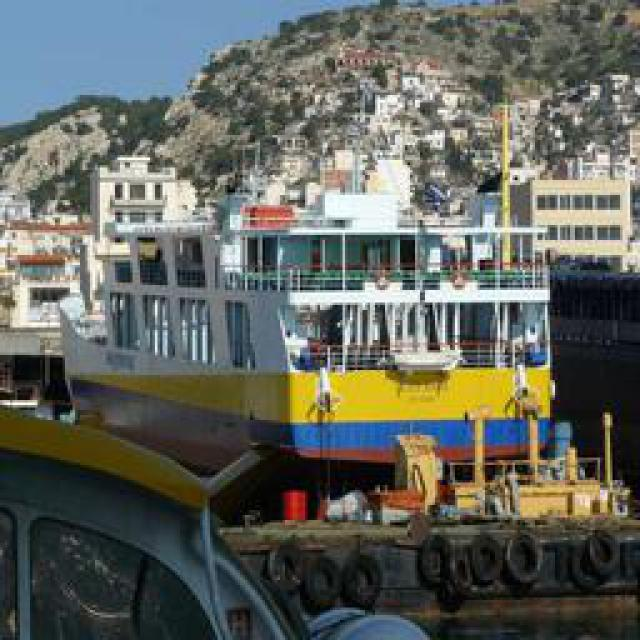Ship: (42, 129, 602, 534)
